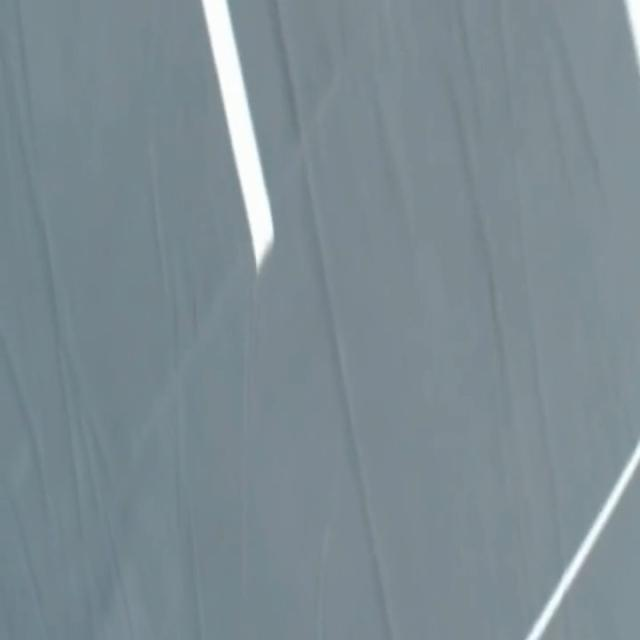center: (201, 0, 274, 271)
right: (624, 0, 639, 68)
